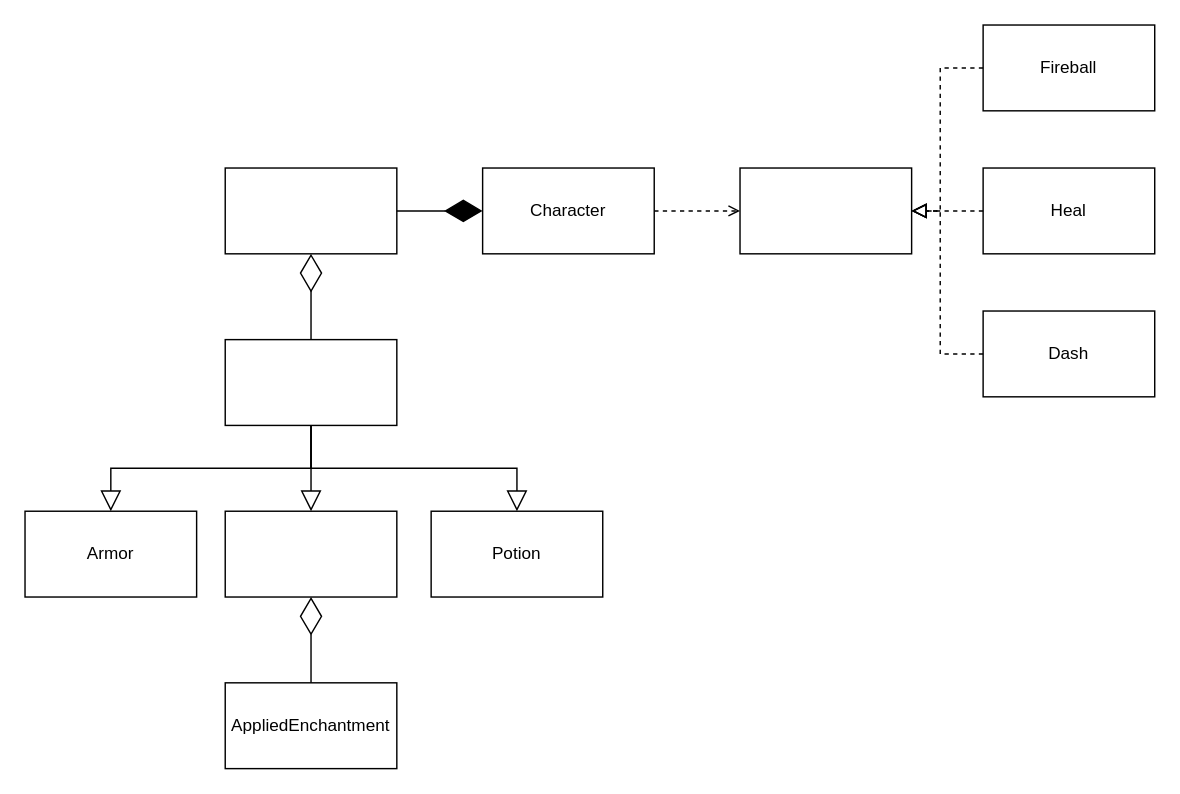
Some shapes in this 1180 by 794 pixel diagram are drawn without their labels. Each missing label, with the box of its shape:
Ability: (739, 167, 912, 254)
Inventory: (224, 167, 397, 254)
Item: (224, 338, 397, 425)
Weapon: (224, 510, 397, 597)
